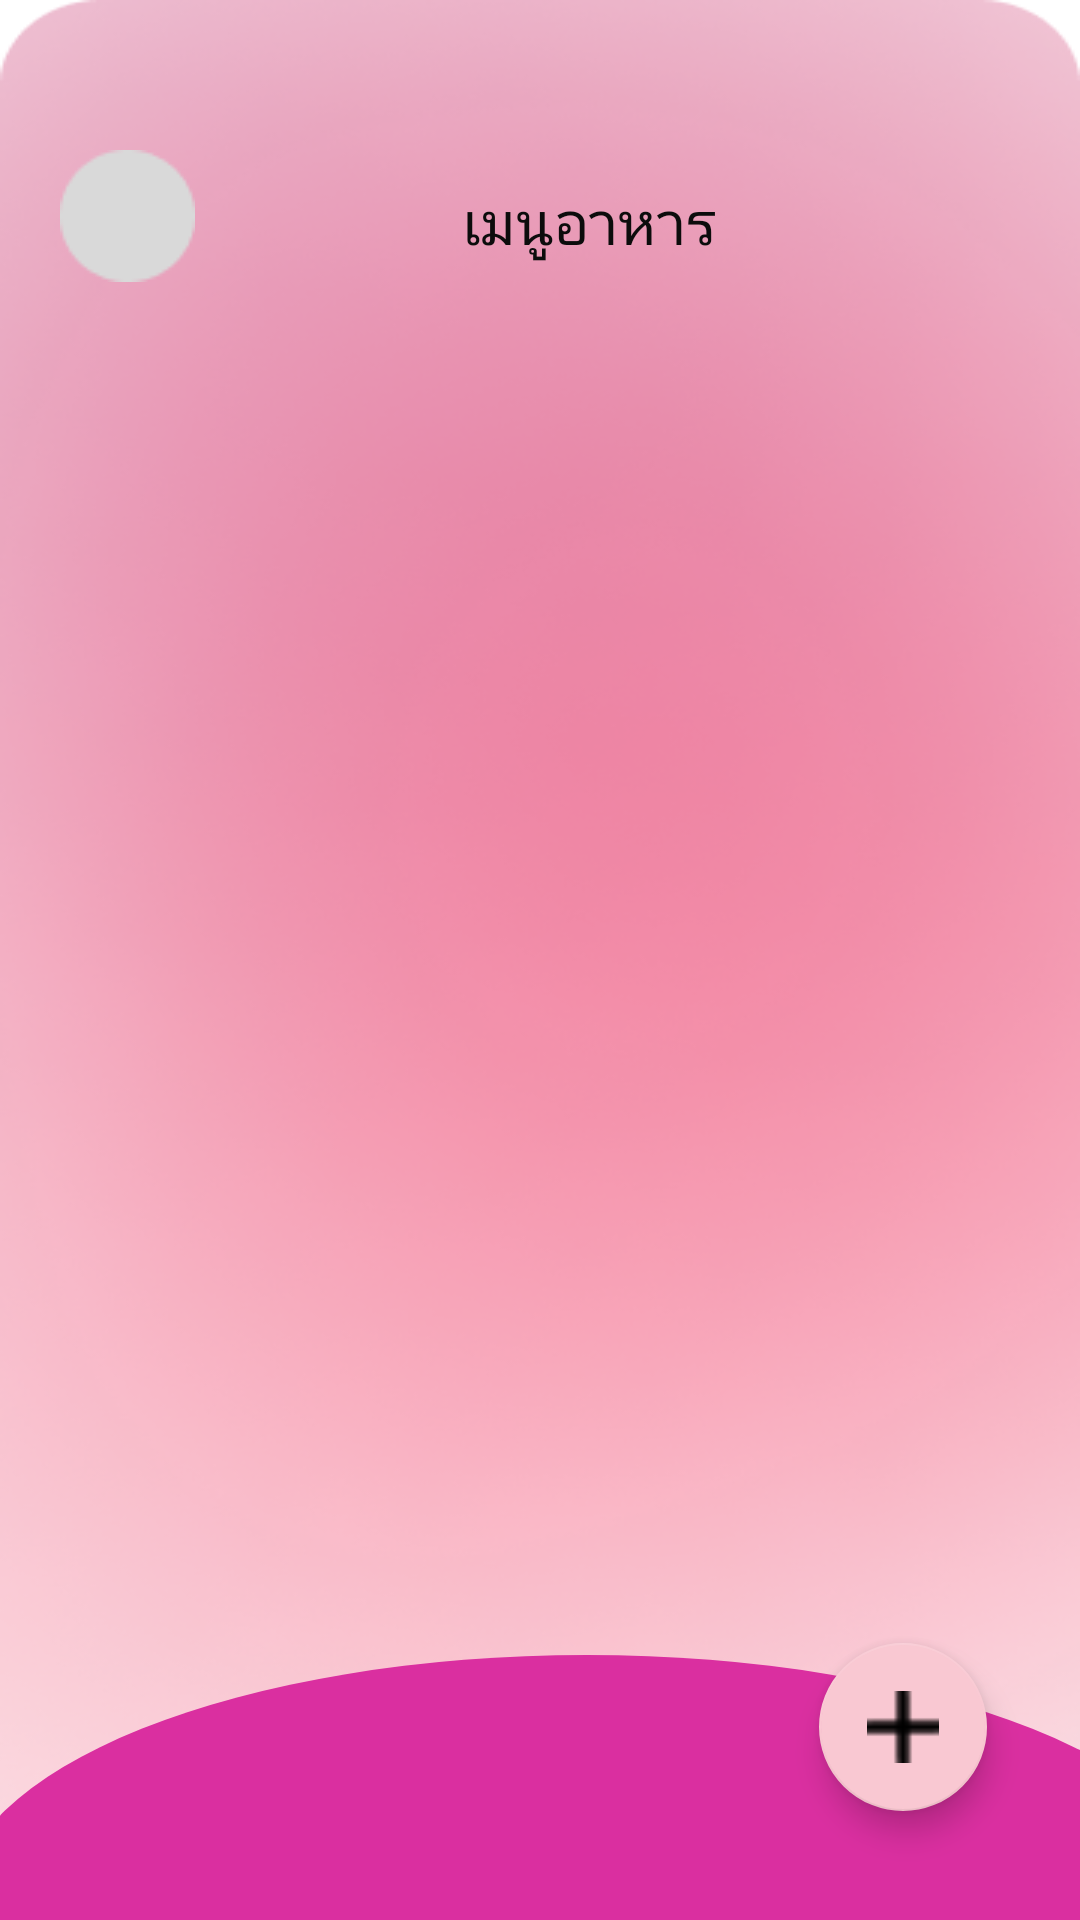

Icons on this 1080w x 1920h Android screen, each with the point to tap as (x,y):
plus fav: (903,1727)
